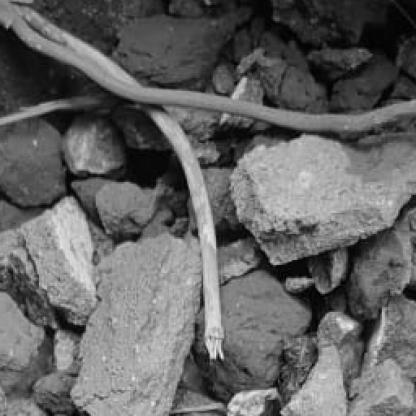cementitious_debris: (2, 1, 413, 413)
